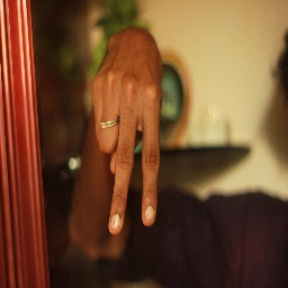Y: (84, 55, 170, 237)
